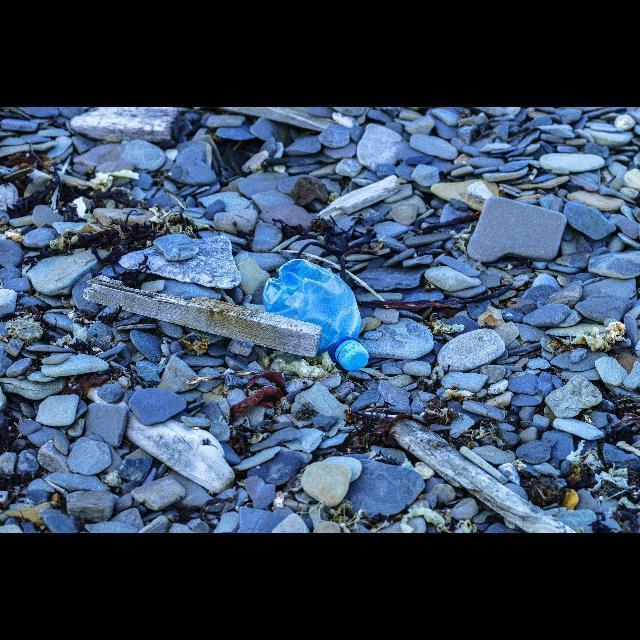Plastic: (262, 260, 368, 372), (338, 343, 368, 372)
